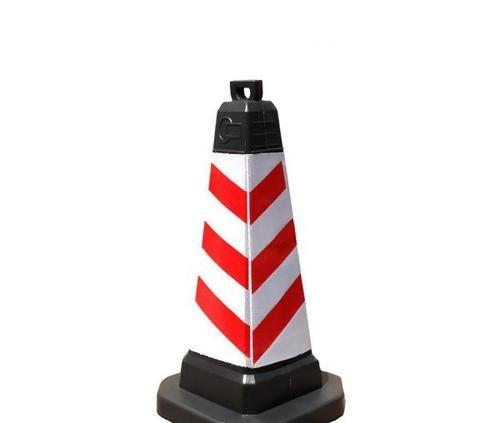cone_barrel: (177, 85, 341, 422)
